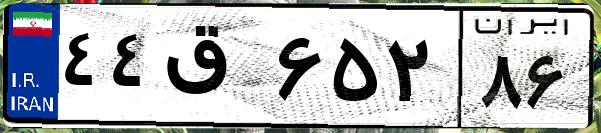2: (385, 28, 445, 110)
4: (57, 26, 110, 100), (110, 28, 158, 98)
5: (330, 28, 385, 110)
6: (270, 28, 330, 110), (525, 38, 570, 115)
8: (475, 38, 525, 113)
ق: (158, 20, 270, 120)
